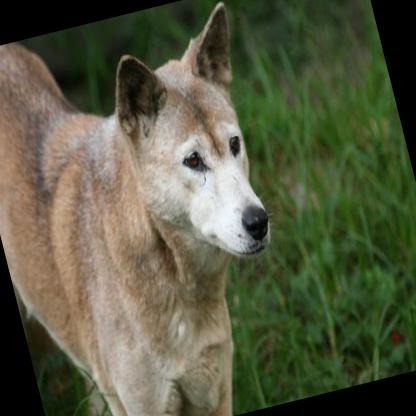dingo: (0, 0, 340, 416)
